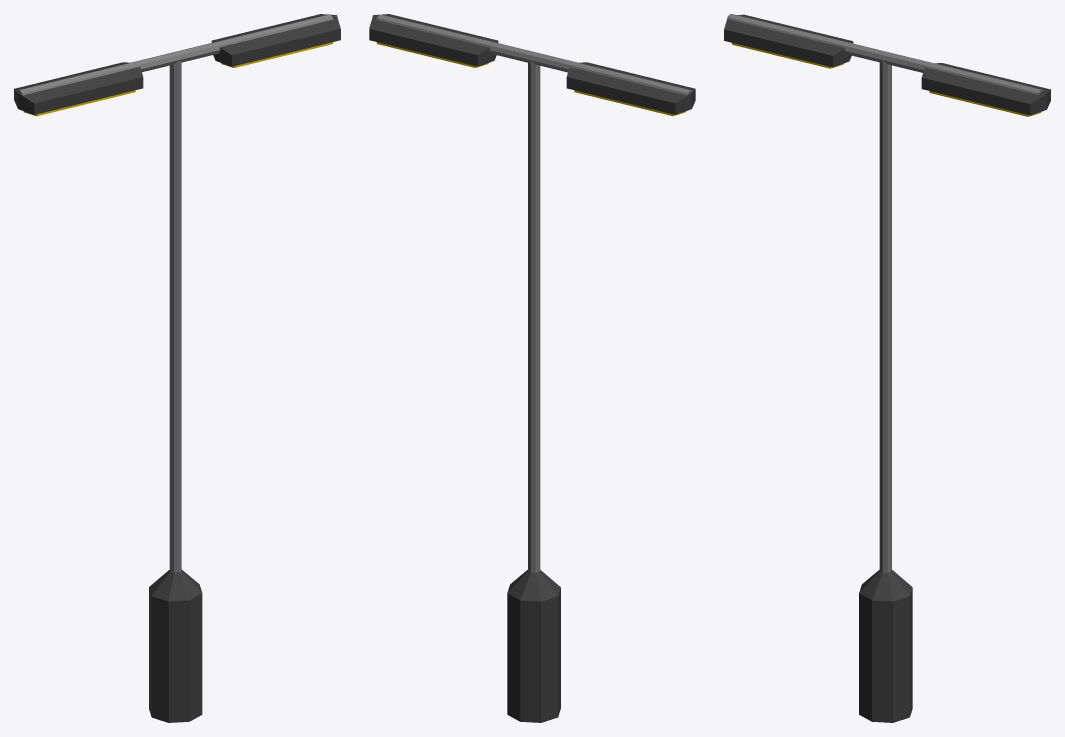
File: LampDouble.gltf
3 views of the same model, side by side, from view 1: azimuth 30°, elevation 25°; view 2: azimuth 150°, elevation 25°; view 3: azimuth 330°, elevation 25° (orthographic).
Parts seen in each view (by area): view 1: lamp_Double; view 2: lamp_Double; view 3: lamp_Double.
Boxes of the visible parts, box(x1,y1,x2,y2) form: lamp_Double: box(14, 14, 340, 722); lamp_Double: box(369, 14, 695, 722); lamp_Double: box(724, 14, 1050, 722).
Bounding box in the file's own units: 3.21 × 6.34 × 0.4834.
Materials: 1 (1 with a texture image).
